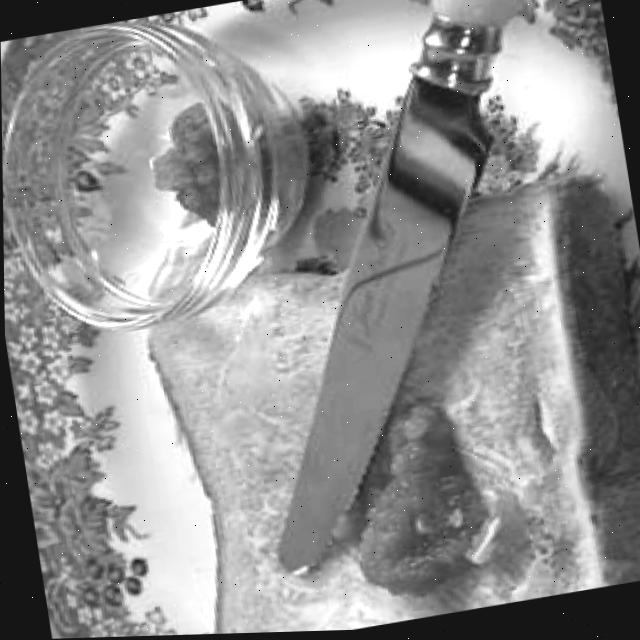面包点心: (127, 166, 640, 637)
